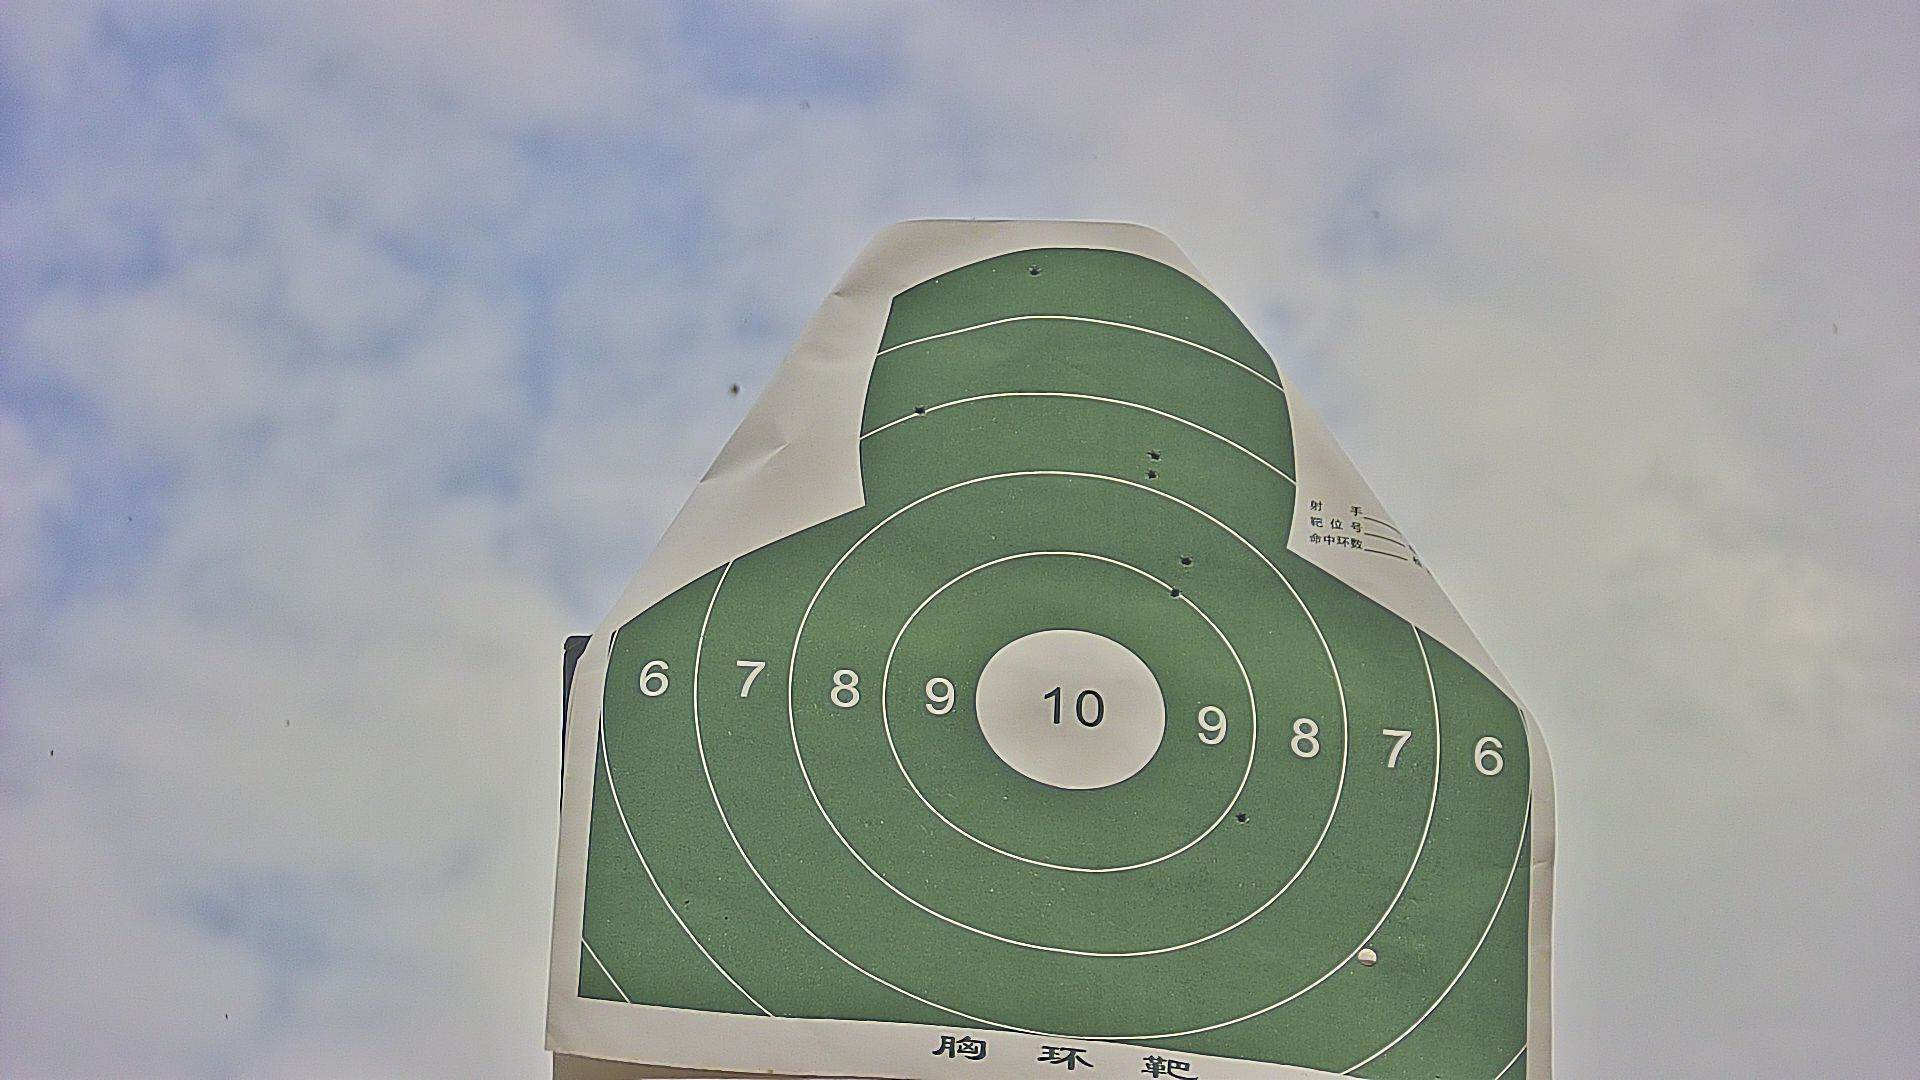hole: (1236, 810, 1249, 825), (1147, 448, 1160, 460), (1170, 585, 1182, 599), (1182, 553, 1191, 568), (1146, 469, 1156, 480), (1030, 264, 1042, 273), (915, 404, 924, 415)
kernel: (1067, 703, 1069, 709)
target: (578, 245, 1532, 1080)
ten: (975, 625, 1166, 795)
